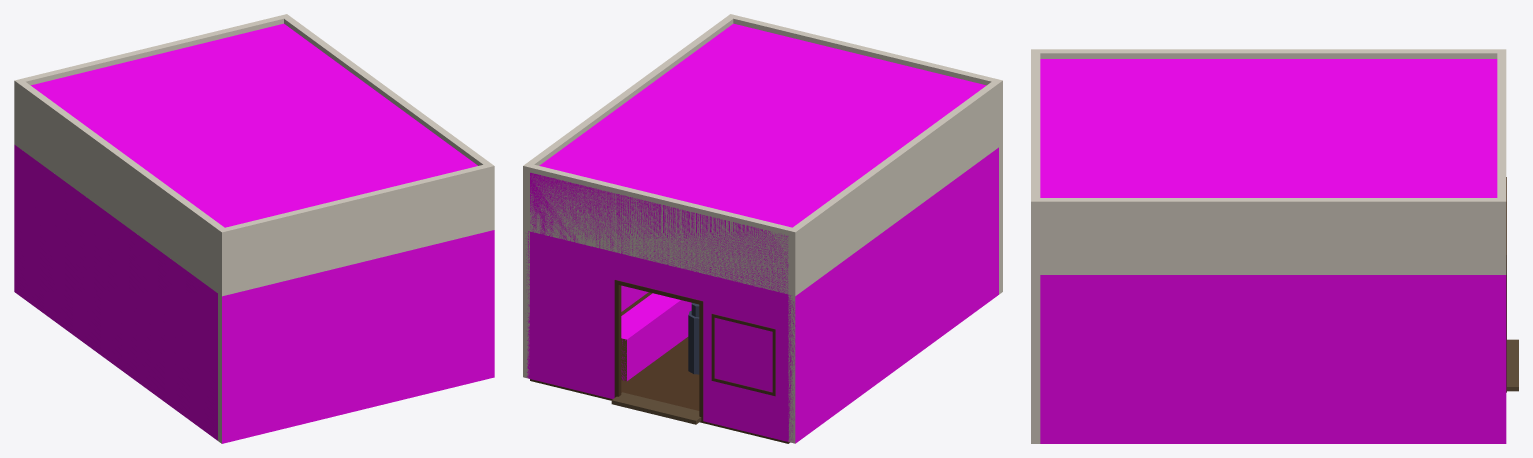
Rendered from SCN_SHOP_Interior_Whitebox.glb.
3 renders of one model, left to right at view 1: azimuth 30°, elevation 25°; view 2: azimuth 150°, elevation 25°; view 3: azimuth 270°, elevation 25°, orthographic. The views are drawn at different scales.
Parts seen in each view (by area): view 1: COL_LoftBlock, COL_Wall_Back, MESH_Shop_Plaster, COL_Wall_Left; view 2: COL_LoftBlock, MESH_Shop_Plaster, COL_Wall_Left, COL_Wall_FrontR, COL_Wall_FrontL, MESH_Shop_Wood, COL_Counter, COL_Wall_FrontLint, MESH_Shop_Threshold, REF_Xu_1p58, COL_Wall_Right; view 3: COL_Wall_Right, COL_LoftBlock, MESH_Shop_Plaster, MESH_Shop_Threshold.
Part boxes in pixels (box(x1,y1,x2,y2)): COL_LoftBlock: box(31, 23, 477, 227); COL_Wall_Back: box(222, 230, 494, 443); MESH_Shop_Plaster: box(14, 14, 494, 443); COL_Wall_Left: box(14, 144, 217, 440); COL_LoftBlock: box(530, 23, 986, 293); MESH_Shop_Plaster: box(523, 14, 1002, 443); COL_Wall_Left: box(788, 147, 998, 443); COL_Wall_FrontR: box(530, 231, 616, 398); COL_Wall_FrontL: box(701, 273, 788, 441); MESH_Shop_Wood: box(530, 280, 789, 443); COL_Counter: box(621, 293, 691, 381); COL_Wall_FrontLint: box(617, 253, 701, 300); MESH_Shop_Threshold: box(611, 392, 701, 424); REF_Xu_1p58: box(688, 303, 699, 374); COL_Wall_Right: box(526, 231, 648, 378); COL_Wall_Right: box(1040, 275, 1506, 443); COL_LoftBlock: box(1040, 59, 1497, 197); MESH_Shop_Plaster: box(1031, 49, 1506, 443); MESH_Shop_Threshold: box(1507, 339, 1518, 391).
Bounding box in the file's own units: 5.8 × 5.04 × 7.85.
